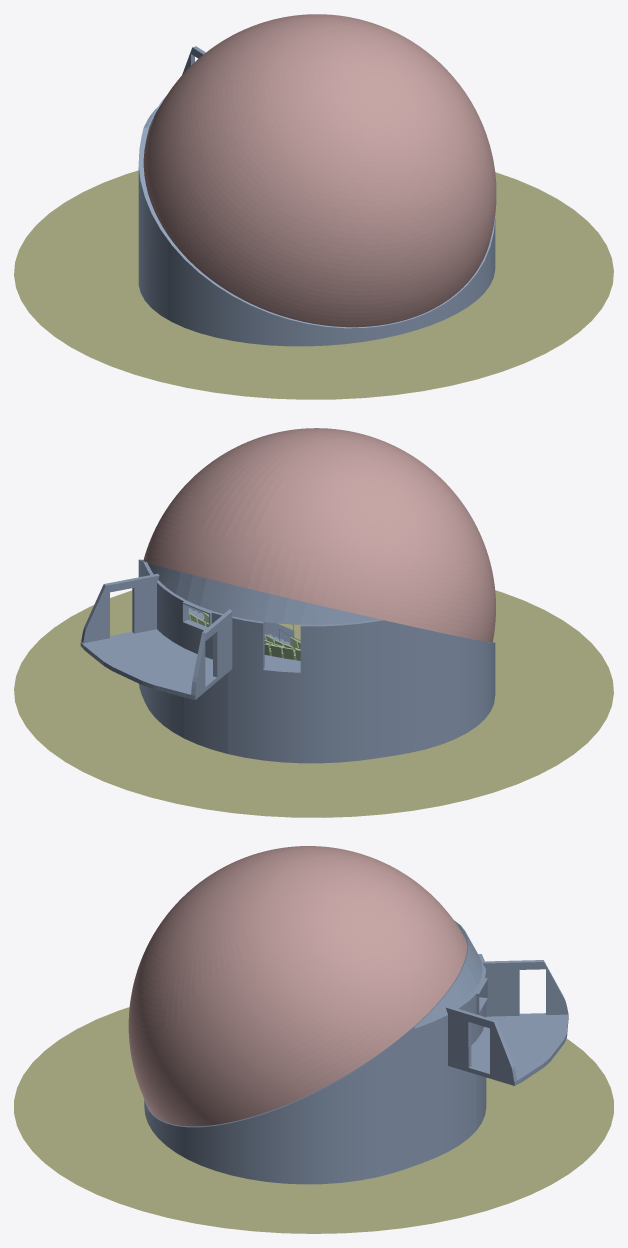
File: wisdome-large.glb
The picture shows the model from 3 angles, top to bottom: view 1: azimuth 30°, elevation 25°; view 2: azimuth 150°, elevation 25°; view 3: azimuth 270°, elevation 25°; orthographic projection.
Visible parts, largest first — view 1: Screen, Floor, Main_Structure; view 2: Floor, Main_Structure, Screen, Chairs; view 3: Screen, Floor, Main_Structure.
Boxes of the visible parts, box(x1,y1,x2,y2) form: Screen: box(143, 14, 496, 327); Floor: box(14, 170, 613, 399); Main_Structure: box(138, 46, 495, 346); Floor: box(14, 590, 613, 817); Main_Structure: box(80, 559, 495, 763); Screen: box(143, 428, 495, 642); Chairs: box(188, 612, 300, 660); Screen: box(128, 846, 467, 1126); Floor: box(14, 1007, 613, 1233); Main_Structure: box(144, 920, 568, 1184).
Size of the model in its own units: 25.06 by 11.25 by 25.03.
